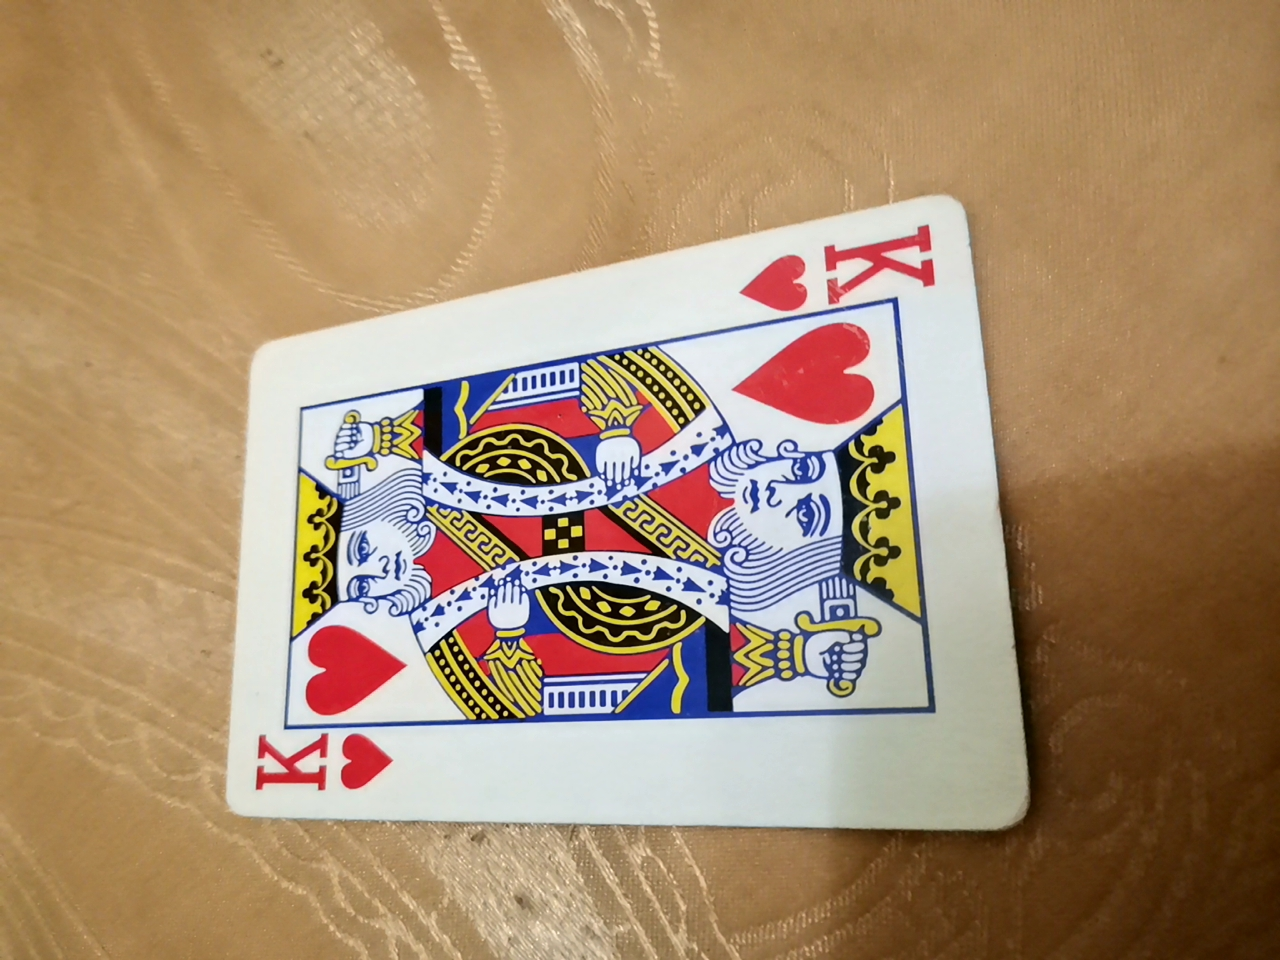hx k: (231, 190, 1021, 795)
